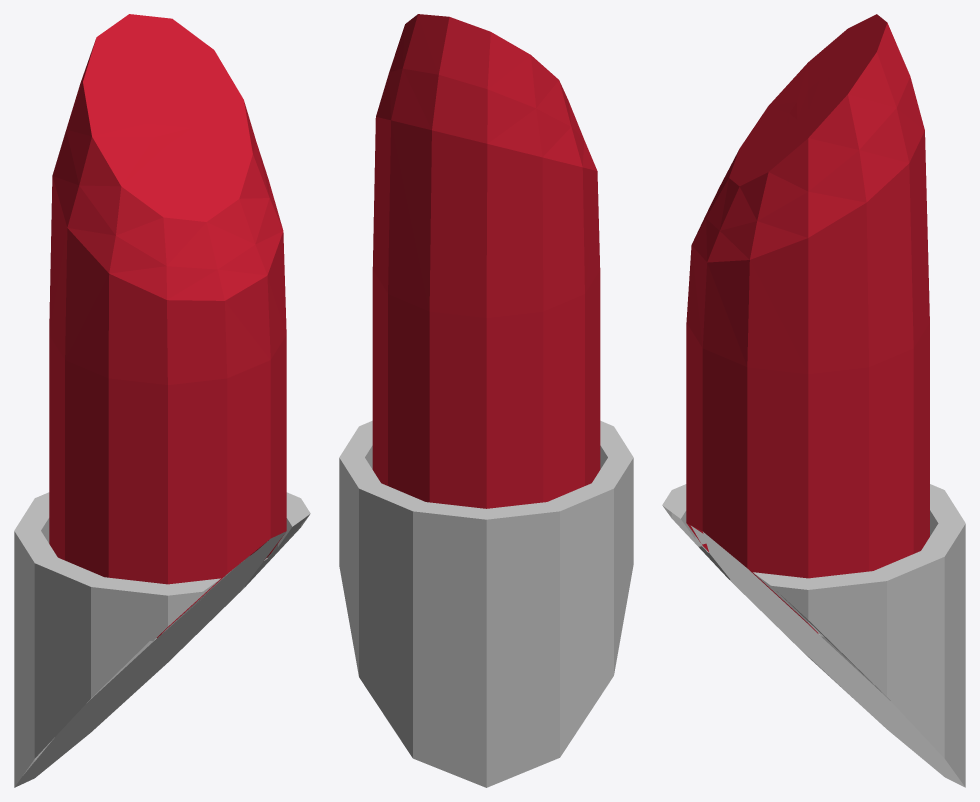
Rendered from LIPSTICK_UPPER_PART.dae.
The picture shows the model from 3 angles, left to right: view 1: azimuth 30°, elevation 25°; view 2: azimuth 150°, elevation 25°; view 3: azimuth 270°, elevation 25°; orthographic projection. The views are drawn at different scales.
Parts seen in each view (by area): view 1: lipstickUpperModel; view 2: lipstickUpperModel; view 3: lipstickUpperModel.
Boxes of the visible parts, x1,y1,x2,y2 form: lipstickUpperModel: [14, 14, 310, 787]; lipstickUpperModel: [339, 14, 633, 787]; lipstickUpperModel: [662, 14, 965, 787].
Size of the model in its own units: 0.0249 by 0.0687 by 0.024.
